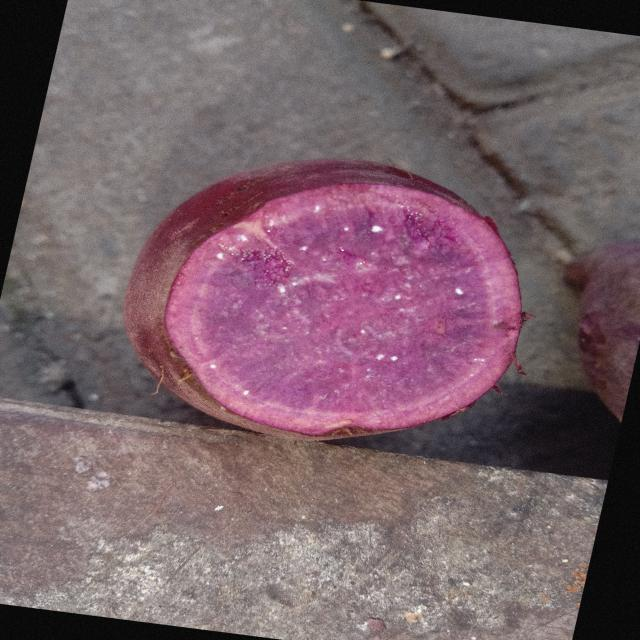Healthy Sweet Potato: (165, 184, 522, 435)
